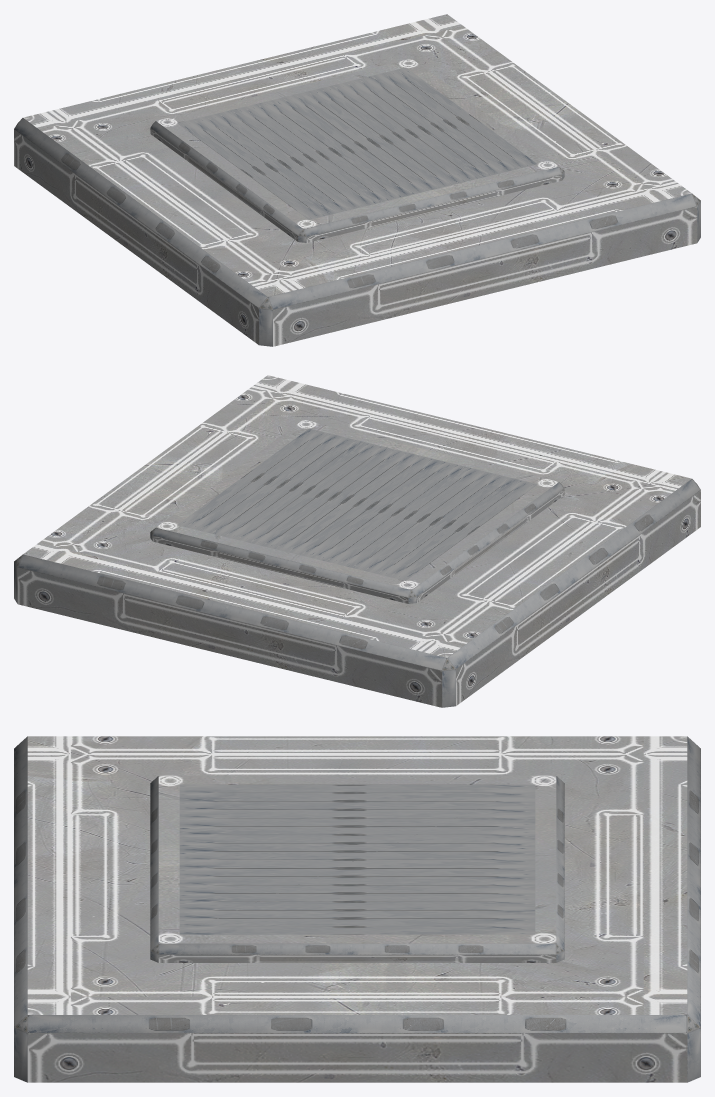
Rendered from SM_Vent1.fbx.
3 views of the same model, one above another, from view 1: azimuth 30°, elevation 25°; view 2: azimuth 150°, elevation 25°; view 3: azimuth 270°, elevation 25° (orthographic). The views are drawn at different scales.
Visible parts, largest first — view 1: SM_Vent1_LOD0; view 2: SM_Vent1_LOD0; view 3: SM_Vent1_LOD0.
Part boxes in pixels (x1,y1,x2,y2): SM_Vent1_LOD0: [14, 14, 700, 346]; SM_Vent1_LOD0: [14, 375, 700, 707]; SM_Vent1_LOD0: [14, 736, 700, 1082].
Size of the model in its own units: 100 by 100 by 12.52.
2 materials, 2 textured.
